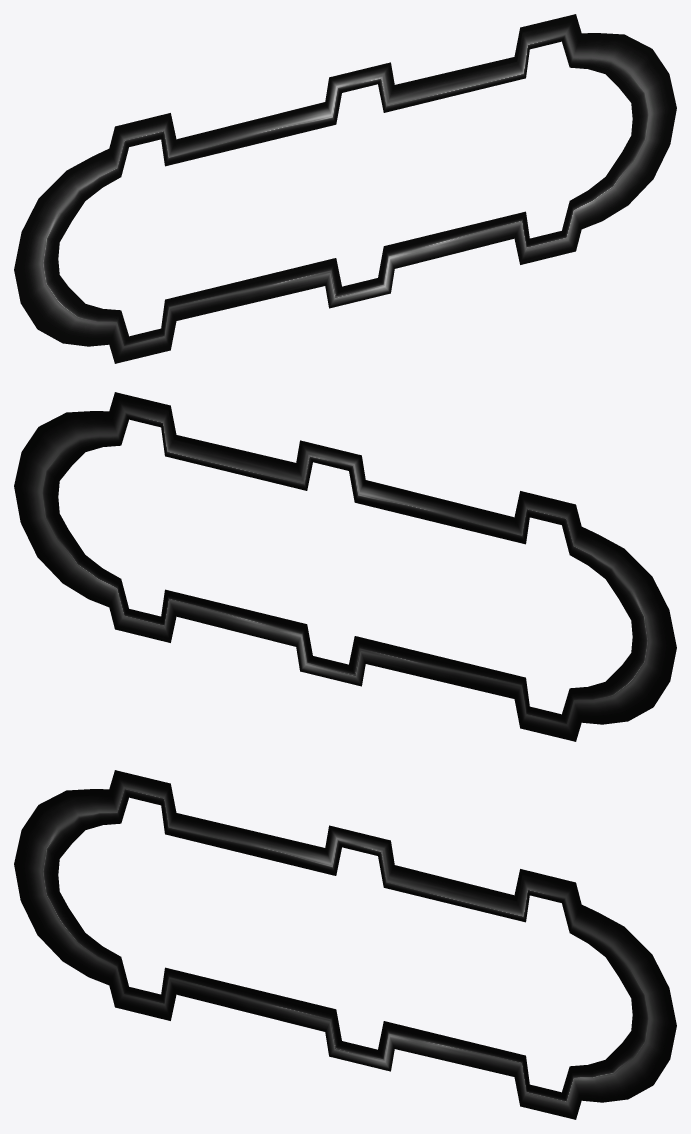
The model's file is BorderMesh.fbx.
3 views of the same model, one above another, from view 1: azimuth 30°, elevation 25°; view 2: azimuth 150°, elevation 25°; view 3: azimuth 330°, elevation 25° (orthographic).
Parts seen in each view (by area): view 1: pCylinder4; view 2: pCylinder4; view 3: pCylinder4.
Boxes of the visible parts, box(x1,y1,x2,y2) form: pCylinder4: box(14, 14, 676, 363); pCylinder4: box(14, 392, 676, 741); pCylinder4: box(14, 770, 676, 1119).
Size of the model in its own units: 4.08 by 1.4 by 6.56e-07.
